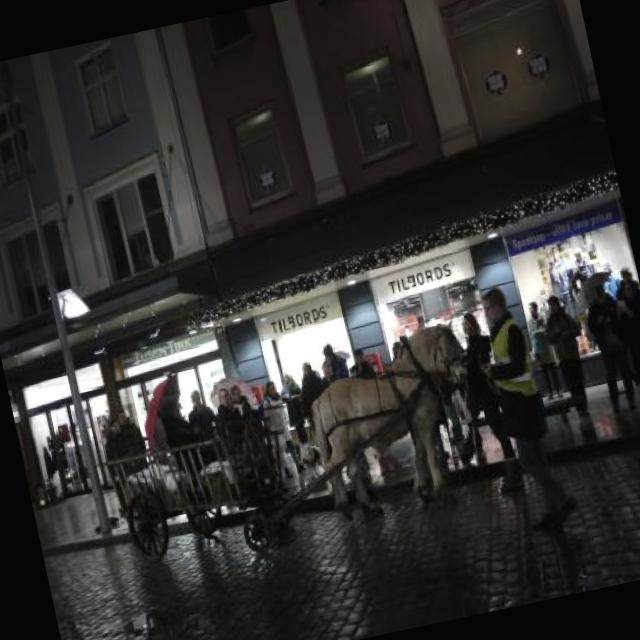Person: (459, 287, 574, 540), (248, 338, 392, 478), (444, 309, 514, 459), (578, 273, 640, 420), (536, 284, 600, 424), (94, 412, 151, 536), (142, 381, 210, 473), (611, 264, 640, 409), (522, 302, 562, 396), (208, 376, 250, 454), (114, 404, 152, 474), (181, 388, 223, 448), (224, 376, 260, 438)
